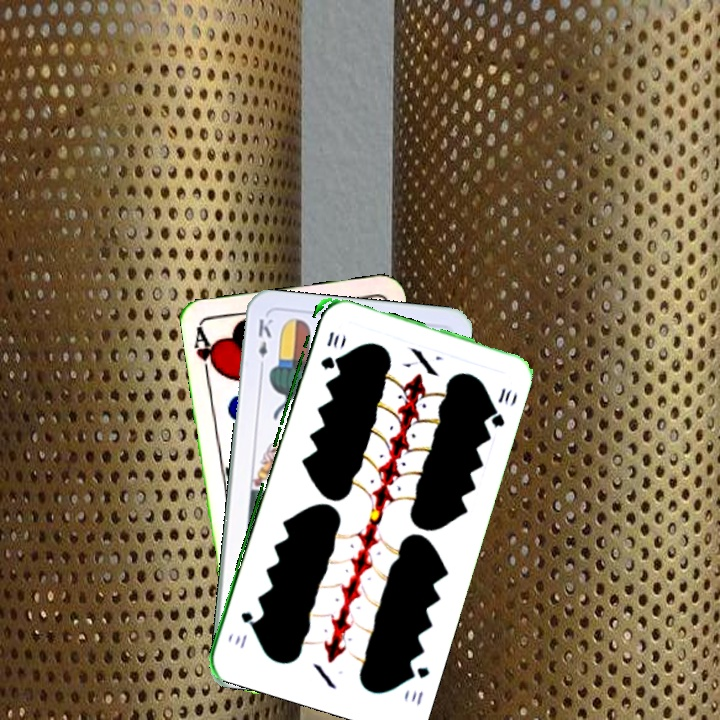EK: (254, 314, 275, 373)
G10: (403, 661, 432, 708), (316, 327, 342, 372)
HA: (190, 324, 221, 383)
